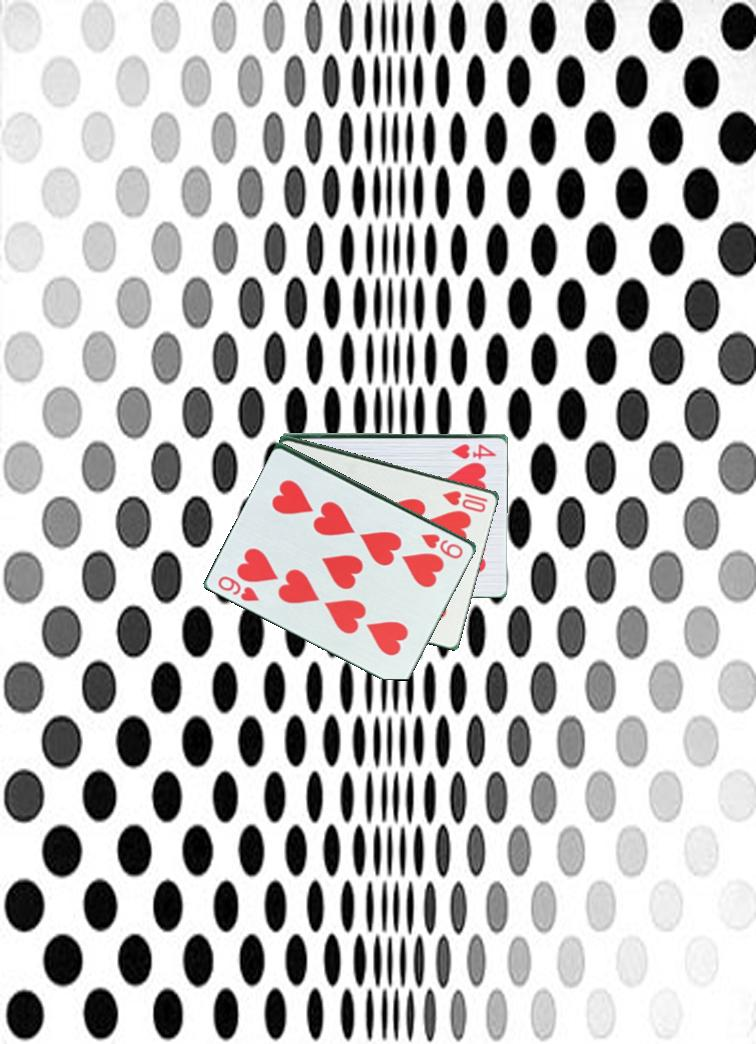4h: (448, 440, 499, 459)
9h: (215, 572, 266, 604), (418, 530, 467, 562)
th: (439, 487, 491, 515)
